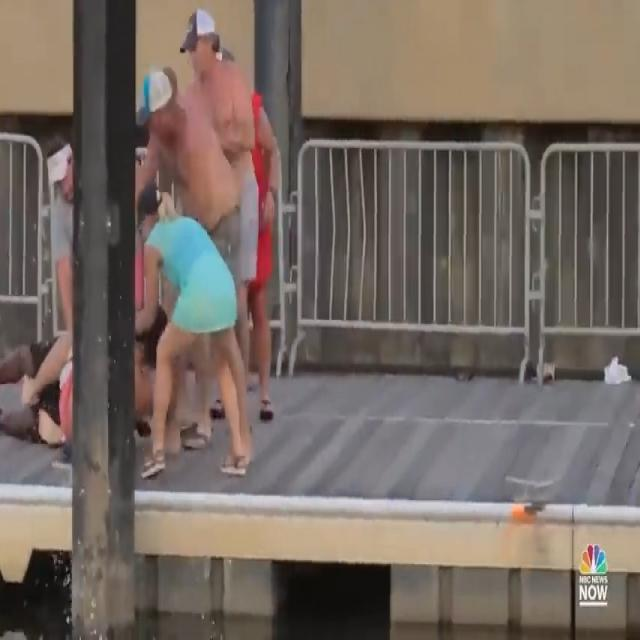fight: (0, 5, 283, 475)
